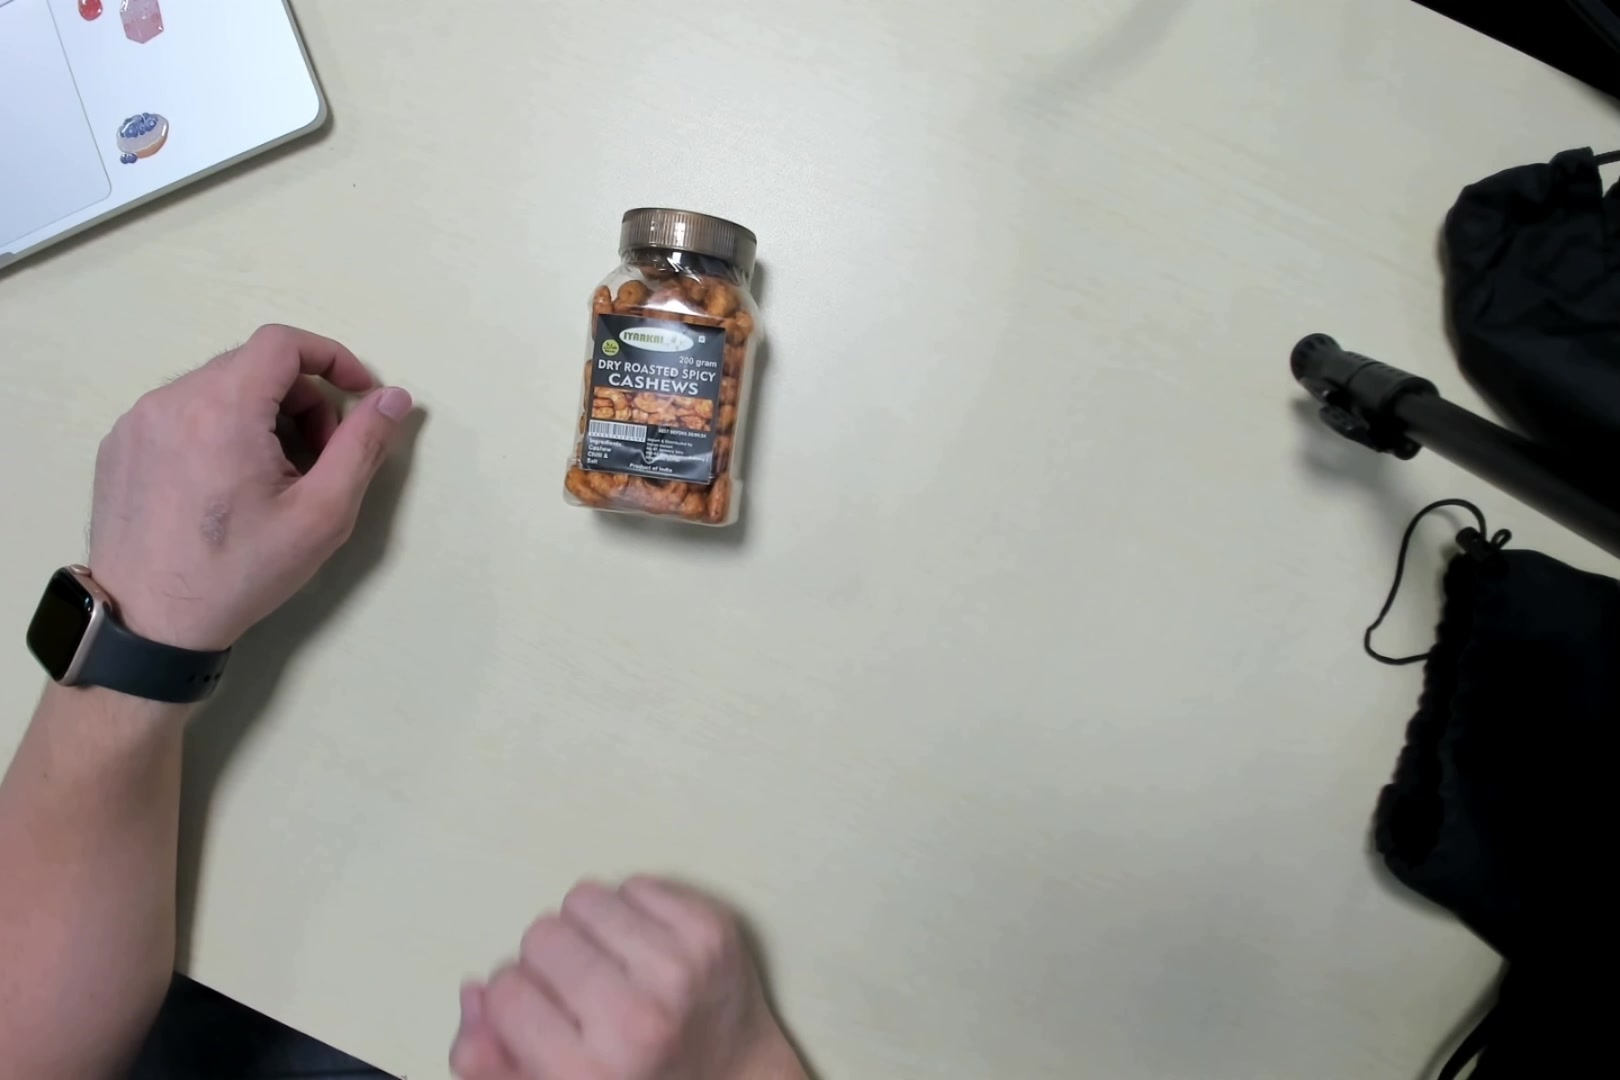Nuts_200-299g_NonHalal_NonHealthy: (573, 210, 757, 541)
